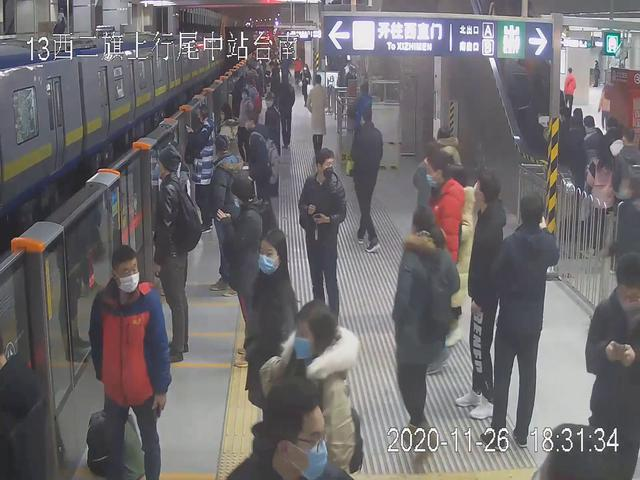person: (90, 245, 170, 480), (283, 295, 365, 480), (491, 194, 540, 454), (586, 251, 640, 480), (395, 204, 442, 443), (150, 143, 198, 354), (294, 147, 349, 330), (248, 229, 295, 437), (464, 168, 501, 419), (216, 175, 266, 359), (421, 145, 455, 377), (347, 99, 385, 252), (239, 108, 282, 242), (302, 74, 329, 169)
